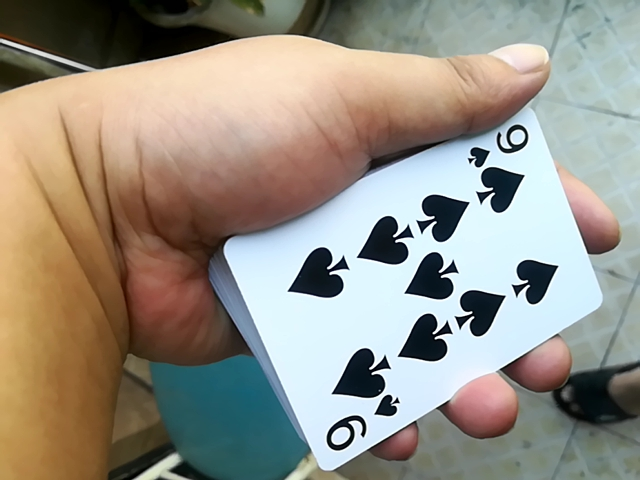ht 9: (196, 110, 611, 468)
